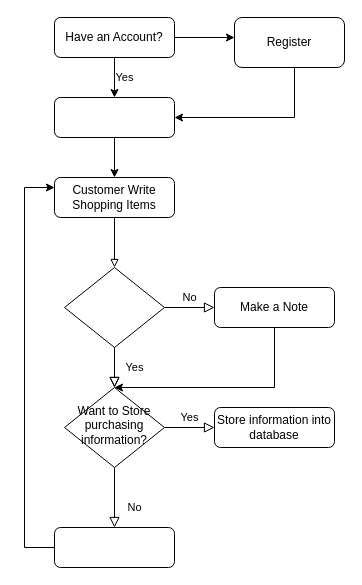
The diagram is 362 pixels wide and 585 high, and some of its shapes have lost their labels. Here are the shapes that lost their labels. From the top down, the centre of each, then its label:
the point at 114,117: login
the point at 114,307: Items purchased?
the point at 114,547: Delete
